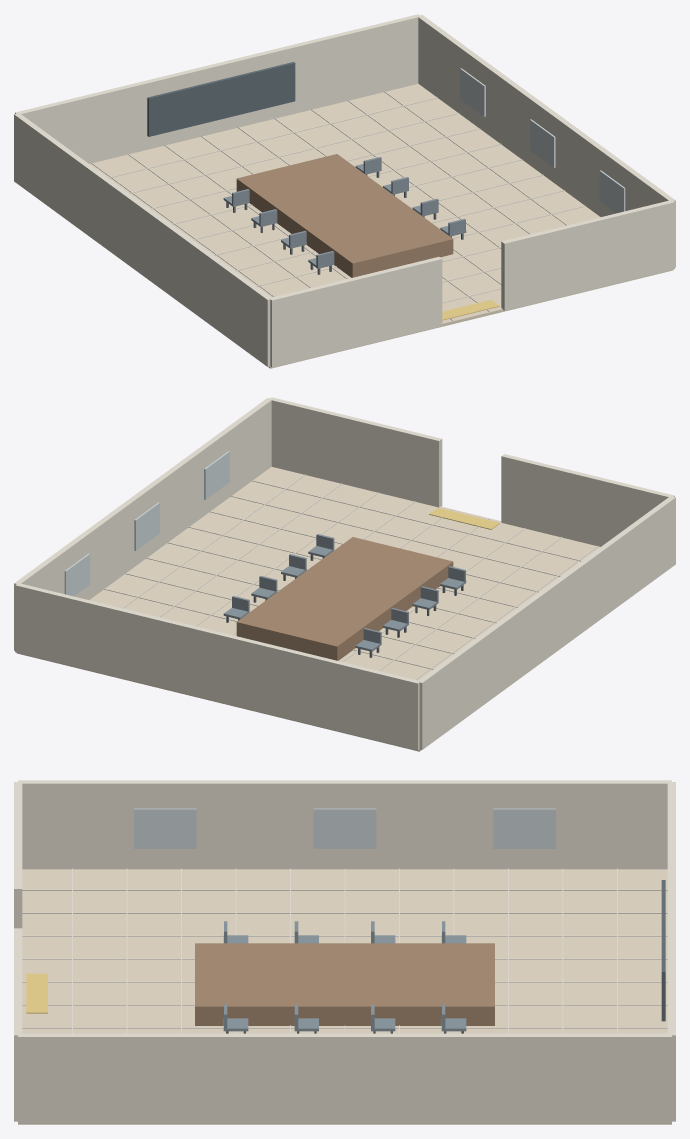
File: meeting.glb
3 renders of one model, top to bottom at view 1: azimuth 30°, elevation 25°; view 2: azimuth 150°, elevation 25°; view 3: azimuth 270°, elevation 25°, orthographic. The views are drawn at different scales.
Parts seen in each view (by area): view 1: room_meeting__E8DDC2, room_meeting__D9C3A0, room_meeting__6E4A30, room_meeting__243036, room_meeting__E6DCC6, room_meeting__4A5A66, room_meeting__B4C7CD; view 2: room_meeting__E8DDC2, room_meeting__D9C3A0, room_meeting__6E4A30, room_meeting__E6DCC6, room_meeting__4A5A66, room_meeting__B4C7CD, room_meeting__E7B54A; view 3: room_meeting__E8DDC2, room_meeting__D9C3A0, room_meeting__6E4A30, room_meeting__B4C7CD, room_meeting__E6DCC6, room_meeting__4A5A66, room_meeting__E7B54A, room_meeting__243036.
Boxes of the visible parts, bbox=[...] form: room_meeting__E8DDC2: bbox=[14, 14, 675, 367]; room_meeting__D9C3A0: bbox=[89, 83, 672, 368]; room_meeting__6E4A30: bbox=[236, 154, 453, 277]; room_meeting__243036: bbox=[147, 62, 295, 136]; room_meeting__E6DCC6: bbox=[91, 91, 585, 320]; room_meeting__4A5A66: bbox=[223, 157, 466, 268]; room_meeting__B4C7CD: bbox=[460, 68, 625, 213]; room_meeting__E8DDC2: bbox=[14, 397, 675, 750]; room_meeting__D9C3A0: bbox=[17, 466, 600, 751]; room_meeting__6E4A30: bbox=[236, 537, 453, 660]; room_meeting__E6DCC6: bbox=[104, 474, 598, 679]; room_meeting__4A5A66: bbox=[223, 534, 466, 651]; room_meeting__B4C7CD: bbox=[64, 451, 229, 596]; room_meeting__E7B54A: bbox=[429, 508, 499, 529]; room_meeting__E8DDC2: bbox=[14, 780, 675, 1123]; room_meeting__D9C3A0: bbox=[18, 869, 671, 1124]; room_meeting__6E4A30: bbox=[195, 943, 494, 1025]; room_meeting__B4C7CD: bbox=[134, 808, 555, 848]; room_meeting__E6DCC6: bbox=[22, 868, 667, 1033]; room_meeting__4A5A66: bbox=[223, 921, 466, 1031]; room_meeting__E7B54A: bbox=[26, 973, 47, 1013]; room_meeting__243036: bbox=[661, 880, 665, 1021].
Bounding box in the file's own units: 22.3 × 3.62 × 24.3.
